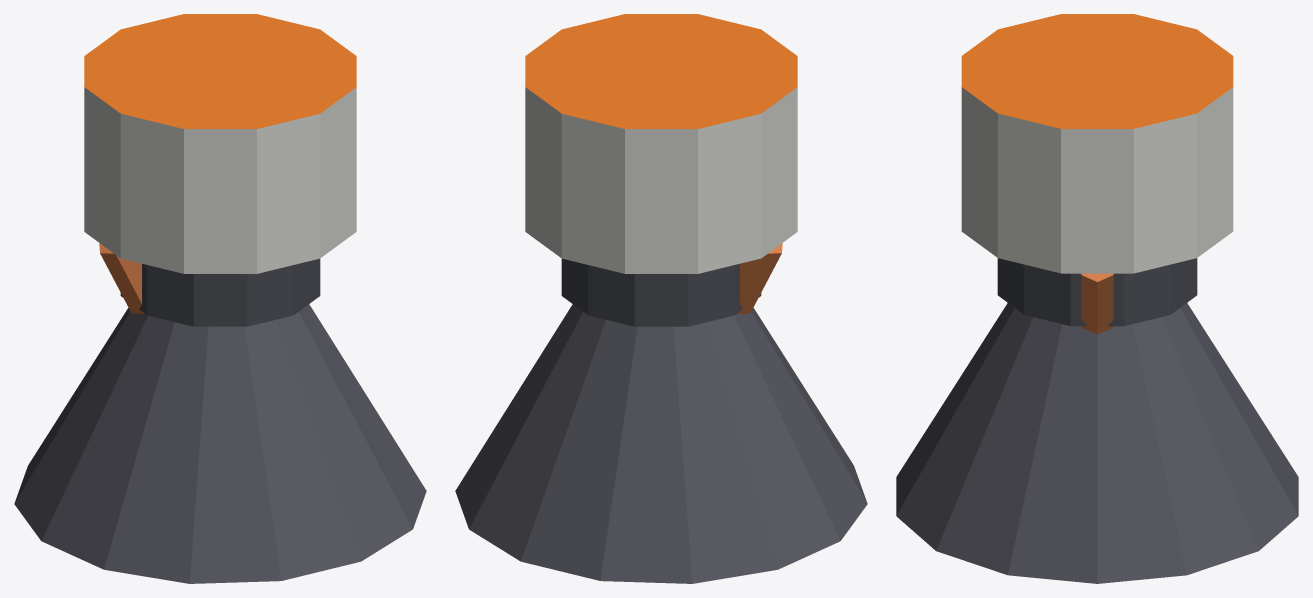
Rendered from engine.glb.
3 renders of one model, left to right at view 1: azimuth 30°, elevation 25°; view 2: azimuth 150°, elevation 25°; view 3: azimuth 270°, elevation 25°, orthographic.
Parts seen in each view (by area): view 1: engine; view 2: engine; view 3: engine.
Part boxes in pixels (x1,y1,x2,y2): engine: (14, 14, 426, 583); engine: (455, 14, 867, 583); engine: (896, 14, 1298, 583).
Size of the model in its own units: 0.88 by 1 by 0.858.
